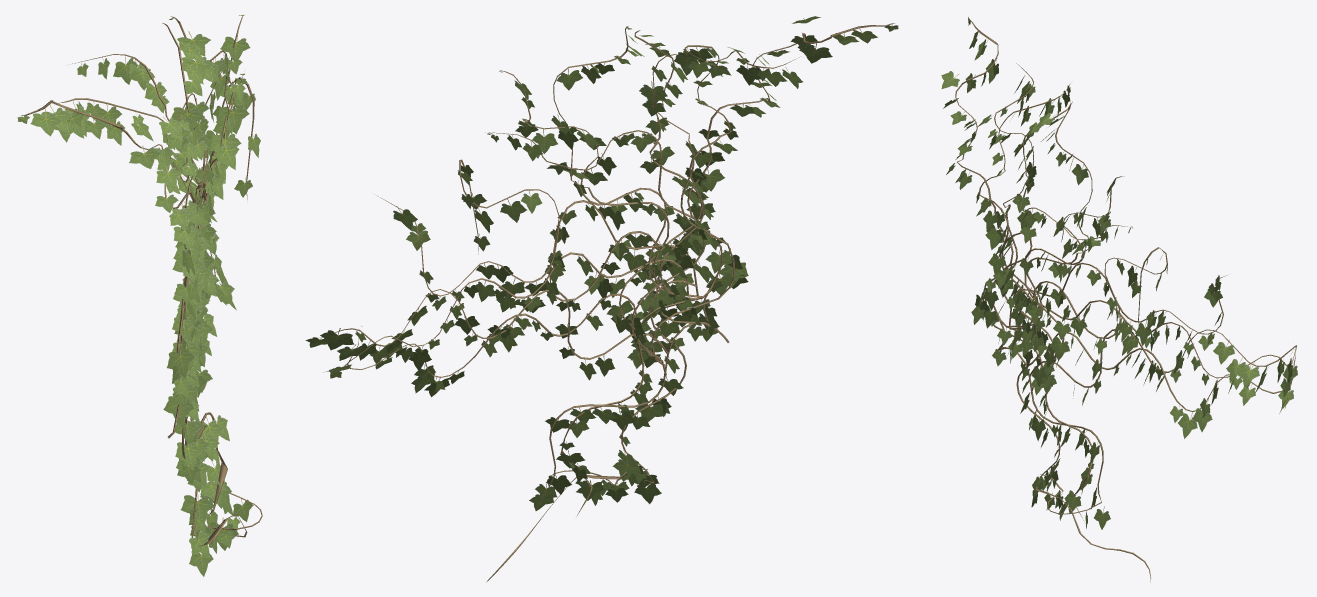
The model's file is ivy_01.fbx.
3 views of the same model, side by side, from view 1: azimuth 30°, elevation 25°; view 2: azimuth 150°, elevation 25°; view 3: azimuth 270°, elevation 25° (orthographic). The views are drawn at different scales.
Parts seen in each view (by area): view 1: NewIvySnapshot_5.001; view 2: NewIvySnapshot_5.001; view 3: NewIvySnapshot_5.001.
Part boxes in pixels (<box>): NewIvySnapshot_5.001: <box>17,14,262,576</box>; NewIvySnapshot_5.001: <box>305,16,898,582</box>; NewIvySnapshot_5.001: <box>941,17,1297,582</box>.
Bounding box in the file's own units: 101 × 130 × 97.72.
